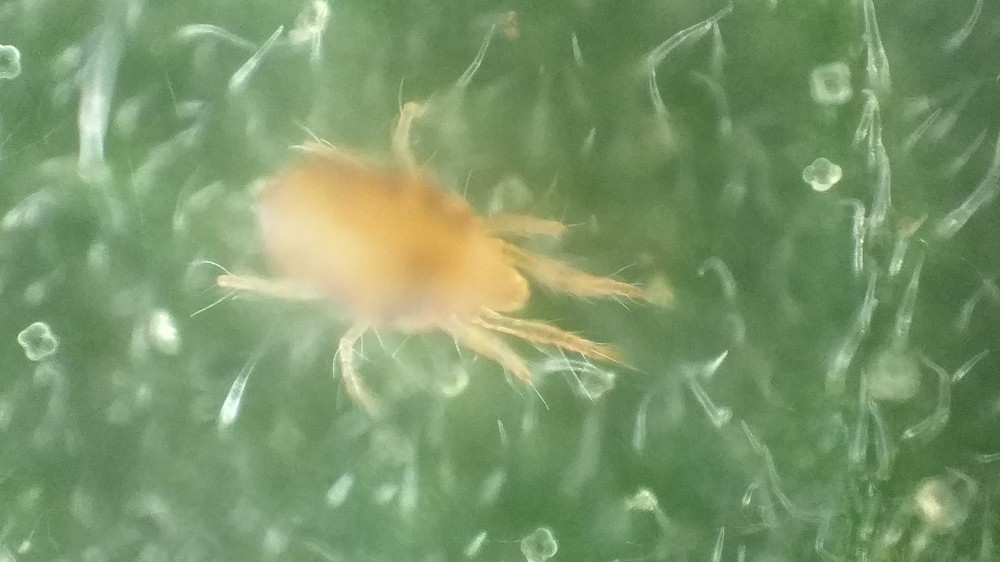Aracnido Rojo: (213, 99, 697, 420)
